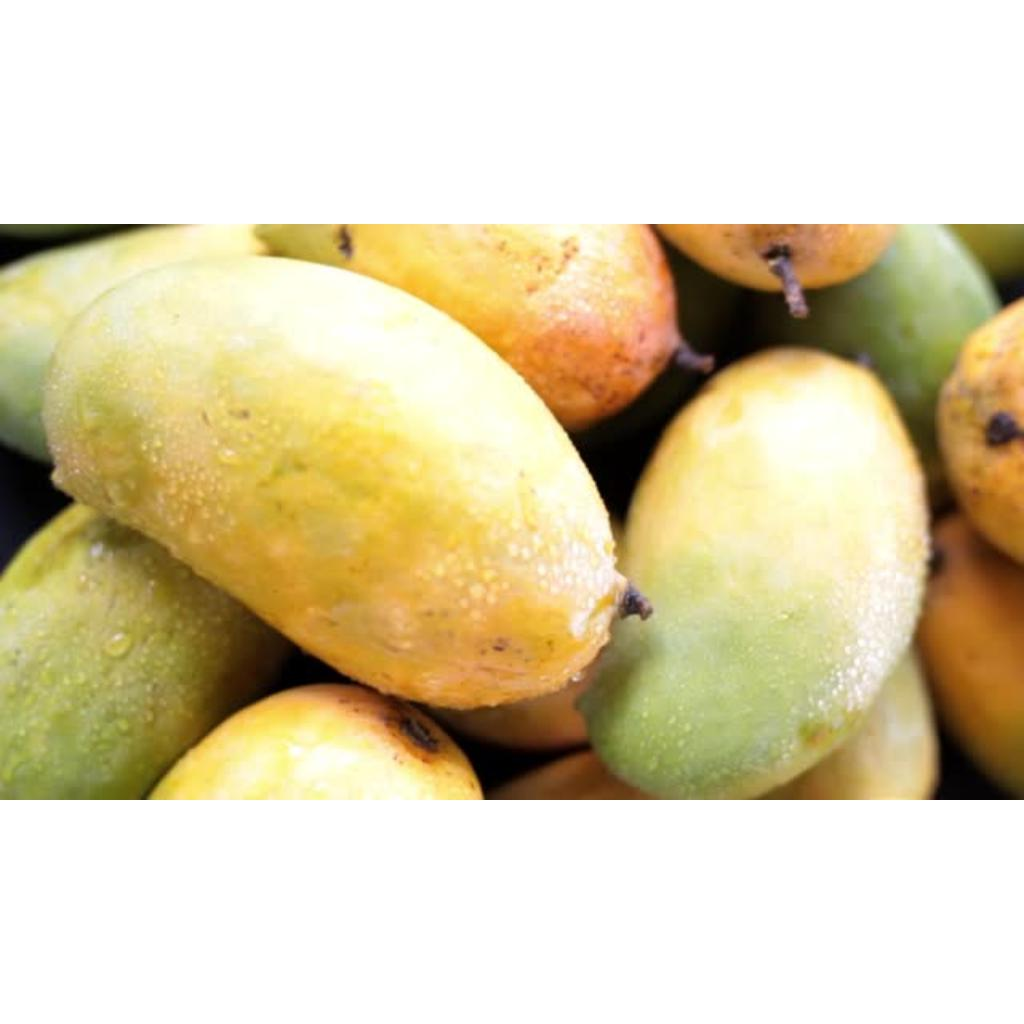mango: (44, 258, 626, 707), (582, 348, 928, 798), (256, 224, 680, 429), (0, 504, 290, 797)
